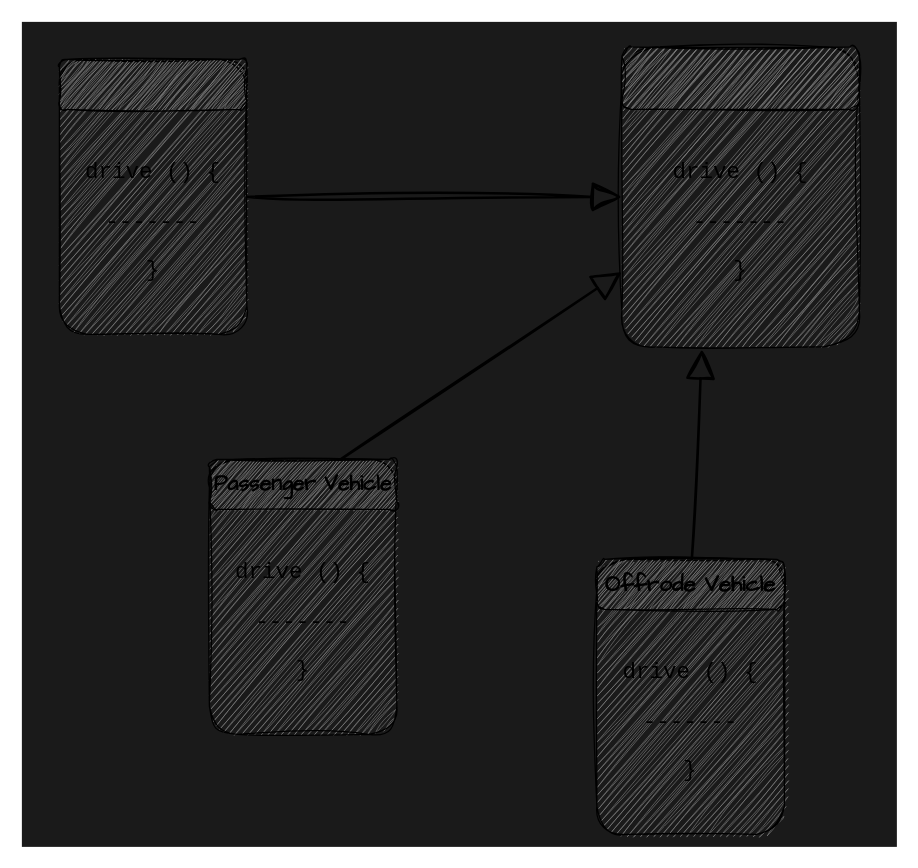
Image size: 918x868. Some labels were removed from this diagram. The centre of each missing label's shape, as x and y in pixels:
"Sport Vehicle" belongs at point (152, 83).
"Vehicle" belongs at point (740, 77).
